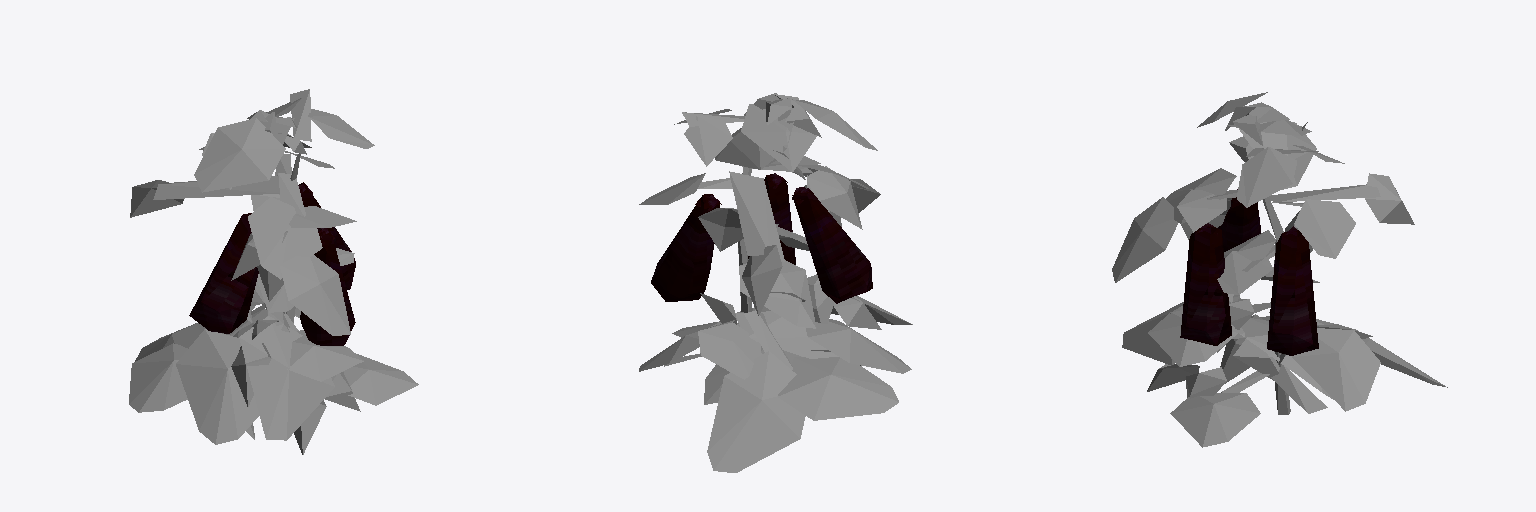
The picture shows the model from 3 angles: view 1: azimuth 30°, elevation 25°; view 2: azimuth 150°, elevation 25°; view 3: azimuth 270°, elevation 25°; orthographic projection.
Visible parts, largest first — view 1: Default_Layer; view 2: Default_Layer; view 3: Default_Layer.
Part boxes in pixels (bbox=[...]): Default_Layer: bbox=[129, 89, 418, 454]; Default_Layer: bbox=[639, 93, 912, 472]; Default_Layer: bbox=[1112, 92, 1447, 447].
Bounding box in the file's own units: 2004 × 2338 × 2343.
3 materials, 1 textured.